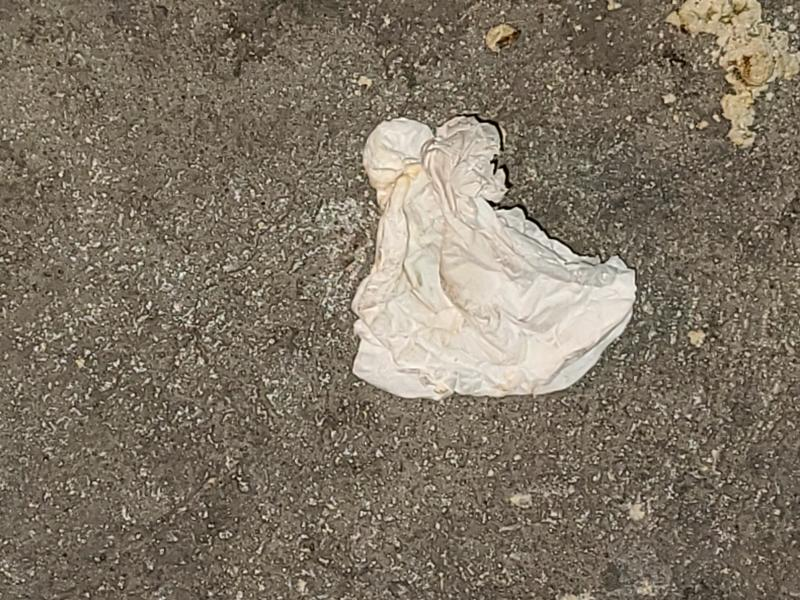papel: (351, 116, 637, 401)
